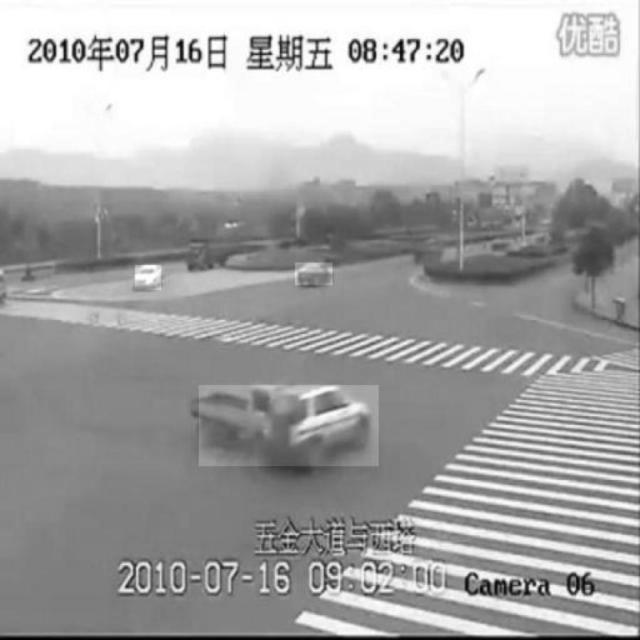accident: (199, 386, 379, 467)
vehicle: (295, 262, 332, 286), (135, 266, 161, 291)
